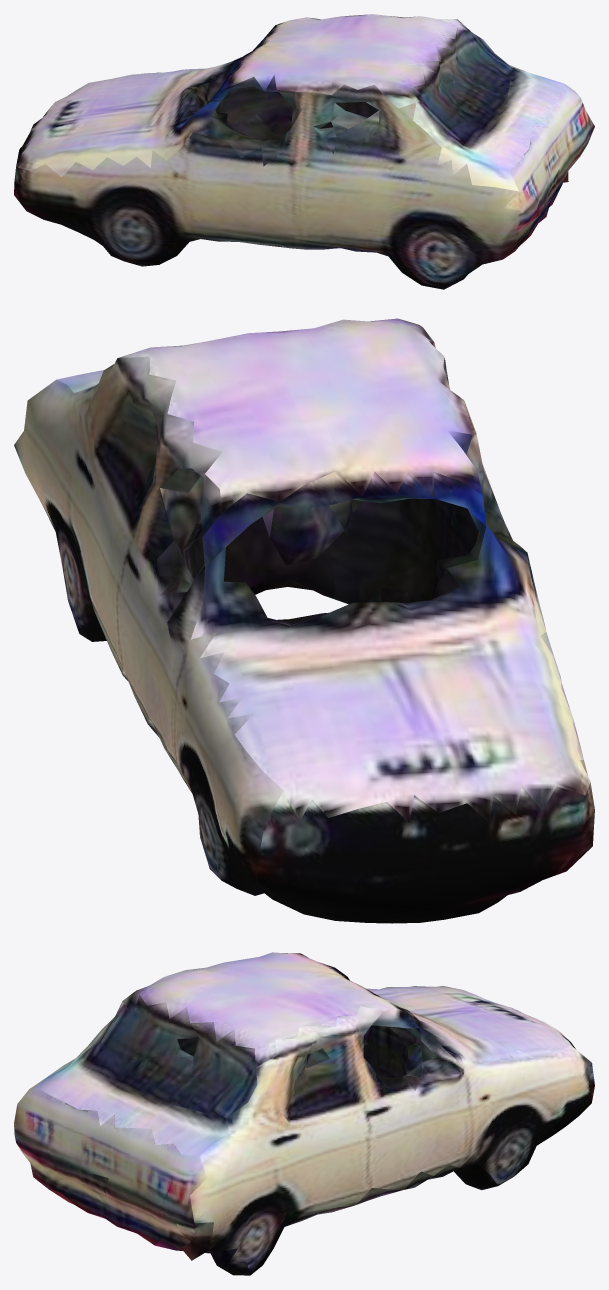
Rendered from dacie_00001_.glb.
3 renders of one model, top to bottom at view 1: azimuth 30°, elevation 25°; view 2: azimuth 150°, elevation 25°; view 3: azimuth 270°, elevation 25°, orthographic. The views are drawn at different scales.
Visible parts, largest first — view 1: world; view 2: world; view 3: world.
Boxes of the visible parts, box(x1,y1,x2,y2) form: world: box(14, 14, 594, 289); world: box(14, 318, 594, 923); world: box(14, 952, 594, 1275).
Bounding box in the file's own units: 0.9699 × 0.4283 × 0.9653.
Materials: 1 (1 with a texture image).
